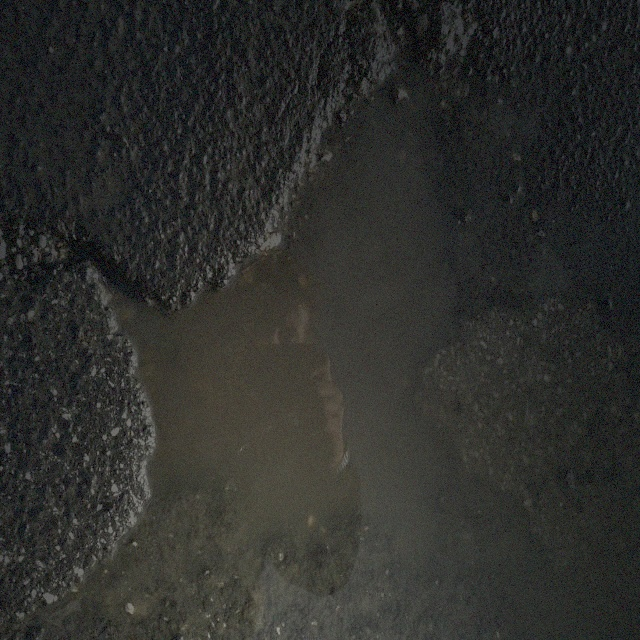pothole: (80, 49, 458, 520)
